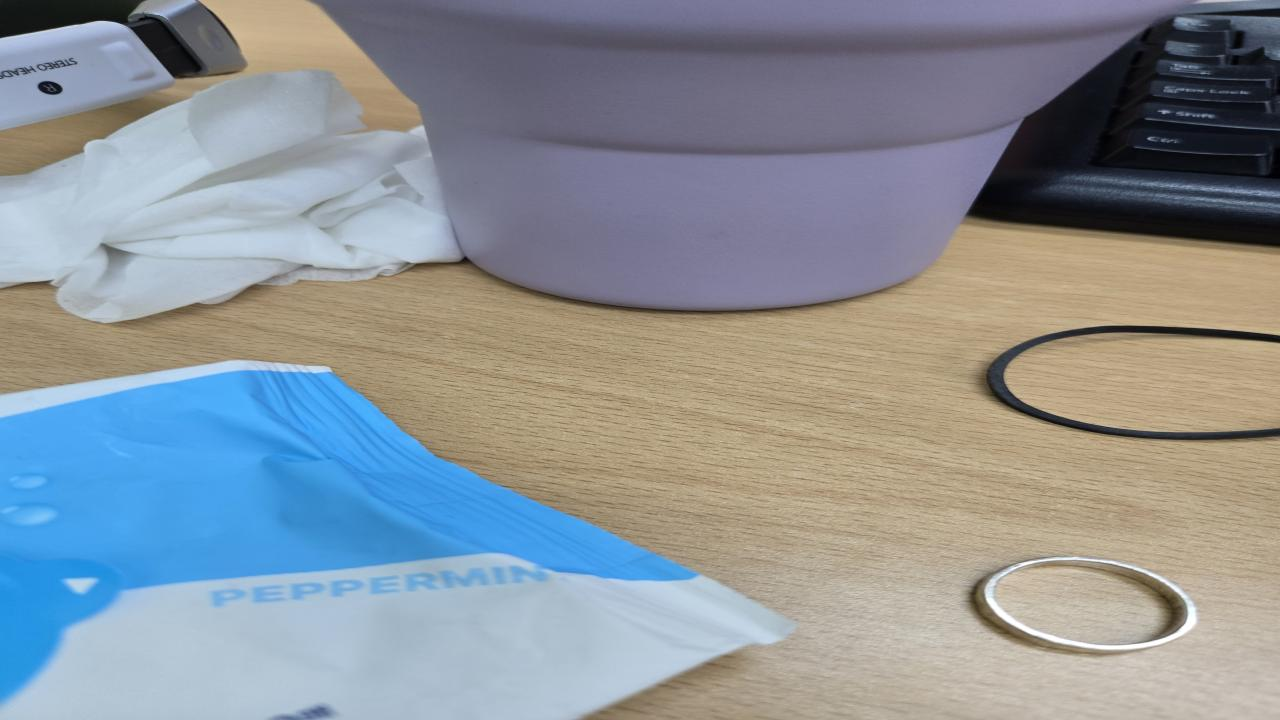ring: (967, 558, 1198, 654)
